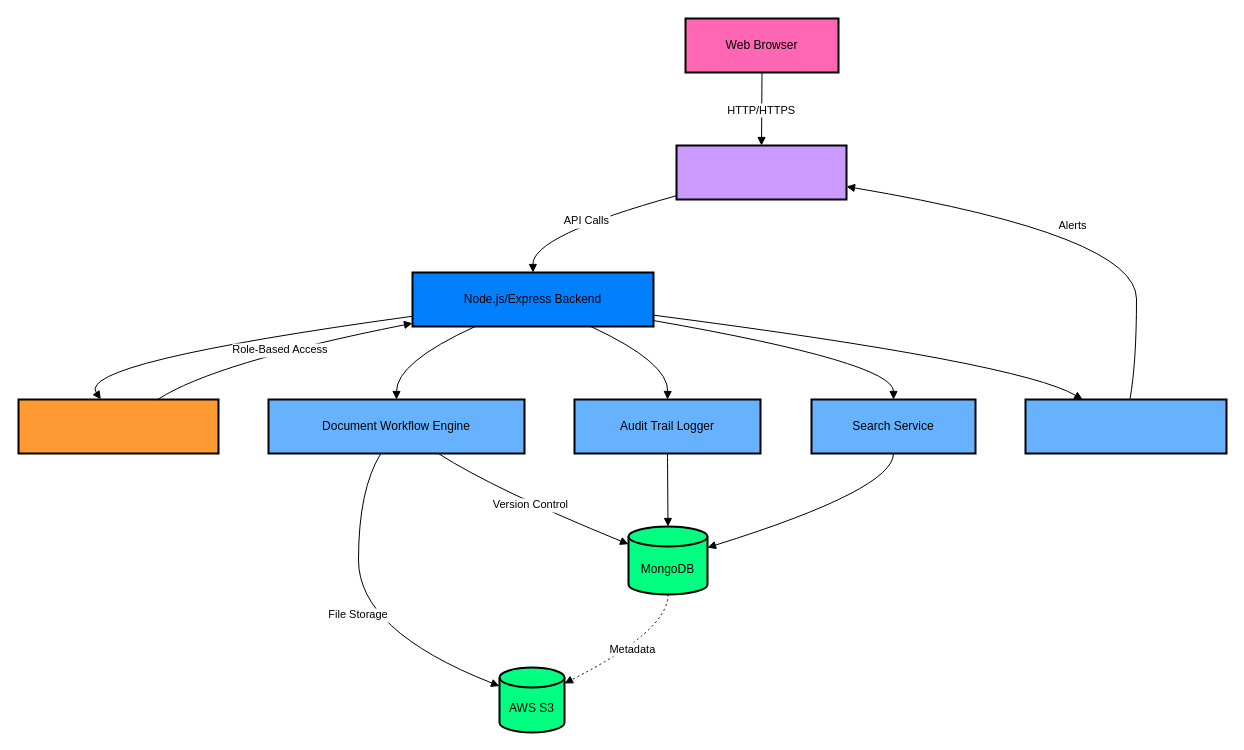
Some shapes in this 1244 by 750 pixel diagram are drawn without their labels. The centre of each missing label's shape, as x and y in pixels:
"JWT Authentication" goes at point (118, 426).
"Notification Service" goes at point (1125, 426).
"React Frontend" goes at point (761, 172).
